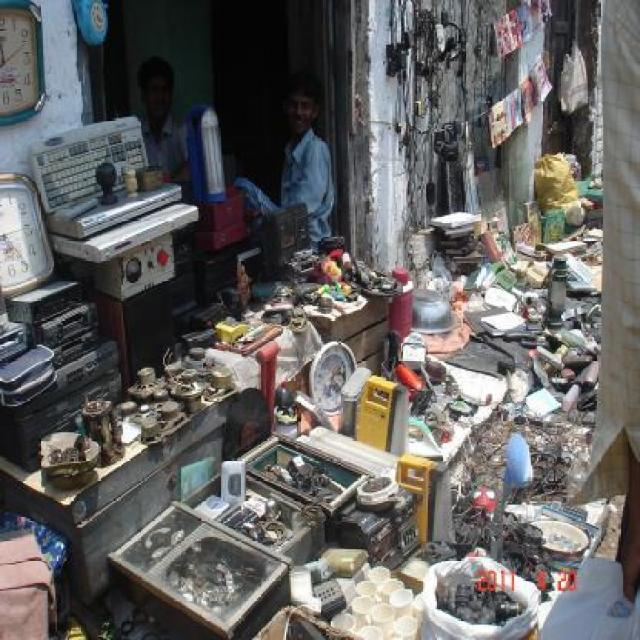garbage: (0, 117, 198, 640), (277, 213, 398, 633), (394, 3, 596, 219), (411, 223, 600, 420), (206, 111, 268, 640), (417, 429, 616, 554), (0, 6, 84, 110), (419, 557, 485, 634)
